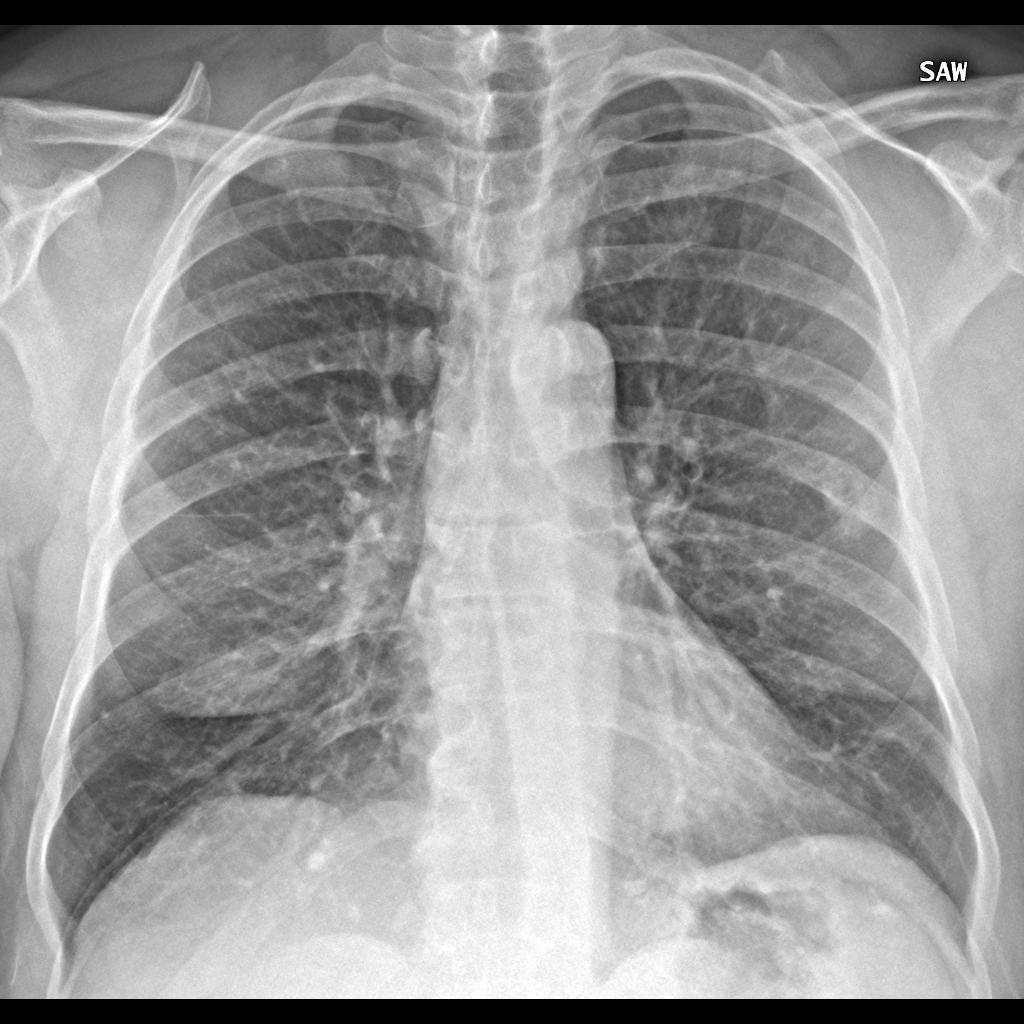Nodule: (815, 462, 890, 544)
